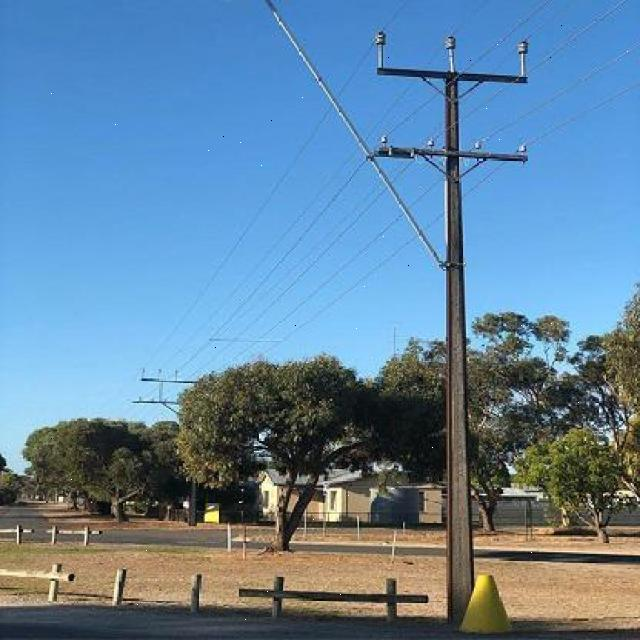light_pole: (362, 22, 542, 588)
